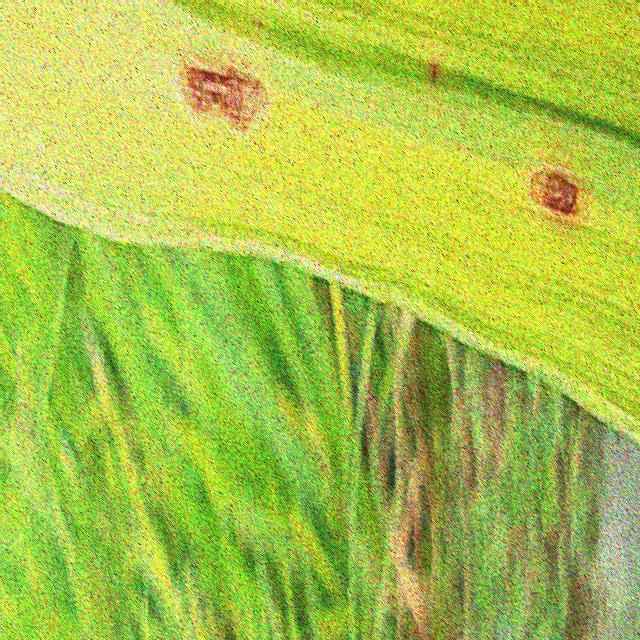NBS: (0, 0, 640, 439), (178, 58, 271, 136), (527, 165, 581, 222), (429, 62, 439, 84)
